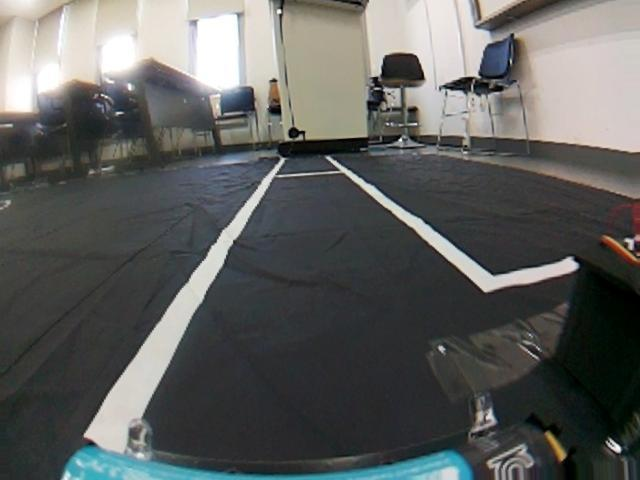straight: (2, 164, 640, 480)
